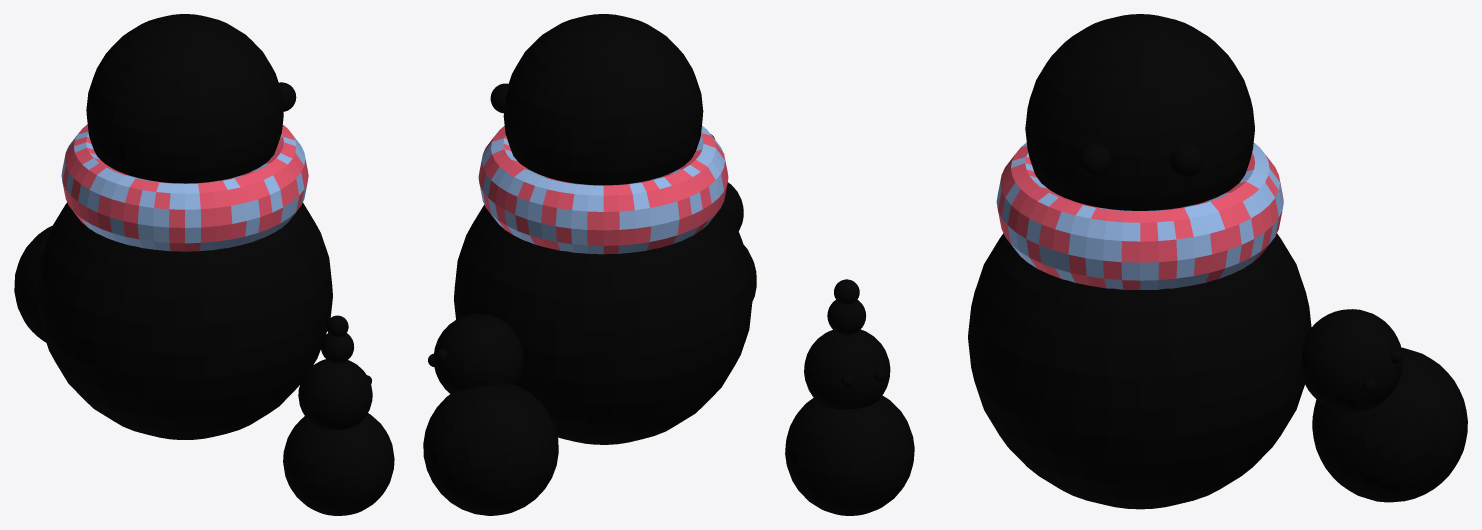
The model's file is snowman.dae.
3 renders of one model, left to right at view 1: azimuth 30°, elevation 25°; view 2: azimuth 150°, elevation 25°; view 3: azimuth 270°, elevation 25°, orthographic. The views are drawn at different scales.
Visible parts, largest first — view 1: Sphere.010; view 2: Sphere.010; view 3: Sphere.010.
Part boxes in pixels (left/top/right/bottom): Sphere.010: left=14, top=14, right=394, bottom=515; Sphere.010: left=423, top=14, right=756, bottom=515; Sphere.010: left=785, top=14, right=1467, bottom=515.
Bounding box in the file's own units: 3 × 5.94 × 4.5.
